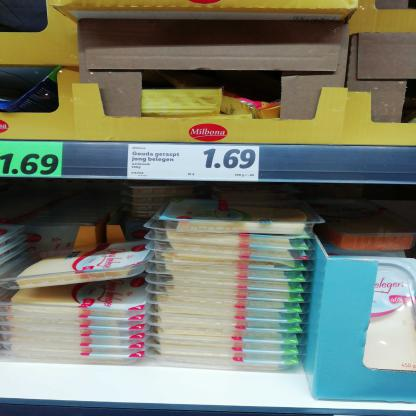prtg: (129, 146, 261, 183), (1, 142, 64, 178)
